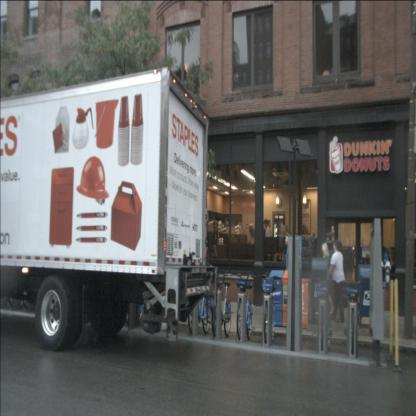human-pedestrian-adult: (327, 240, 346, 323), (316, 242, 336, 316), (284, 232, 297, 320)
vehicle-truck: (0, 66, 218, 351)
